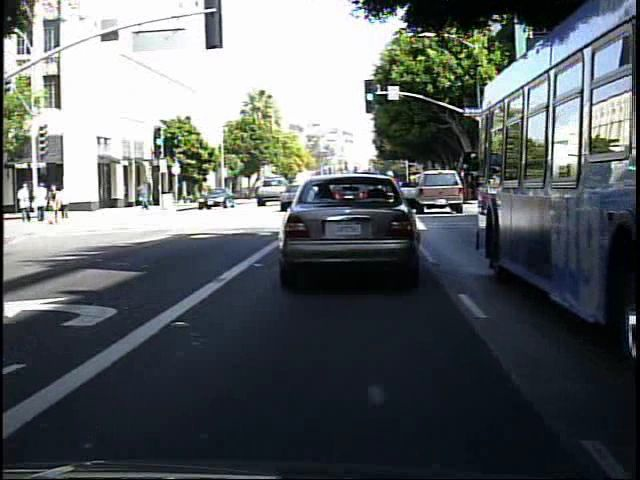person: (17, 179, 36, 225), (34, 181, 50, 224), (135, 178, 153, 215), (46, 184, 61, 225), (59, 181, 74, 221), (48, 184, 62, 221)
